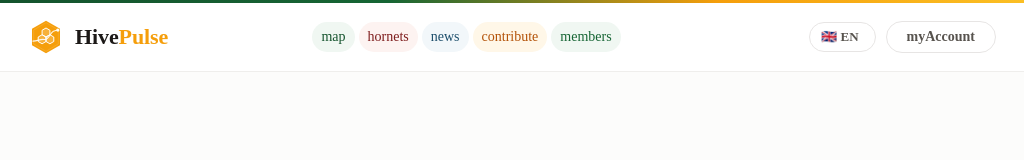
Test: Nav › when logged in › opens account dropdown when Account menu button is clicked
Click the button with aria-label "Account menu": coordinates (941, 37) [886,21,996,53]
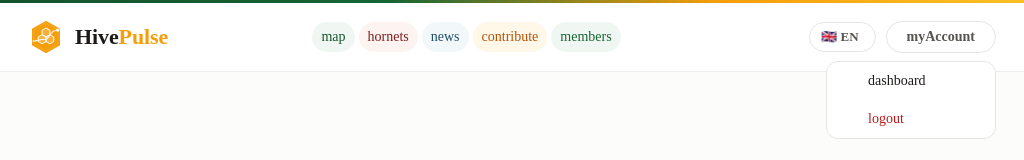
expect the element with class "nav-user-dropdown" is shown: met, box [826,61,996,139]
expect the link "dashboard" is shown: met, box [868,73,926,88]
expect the button "logout" is shown: met, box [827,100,995,138]
